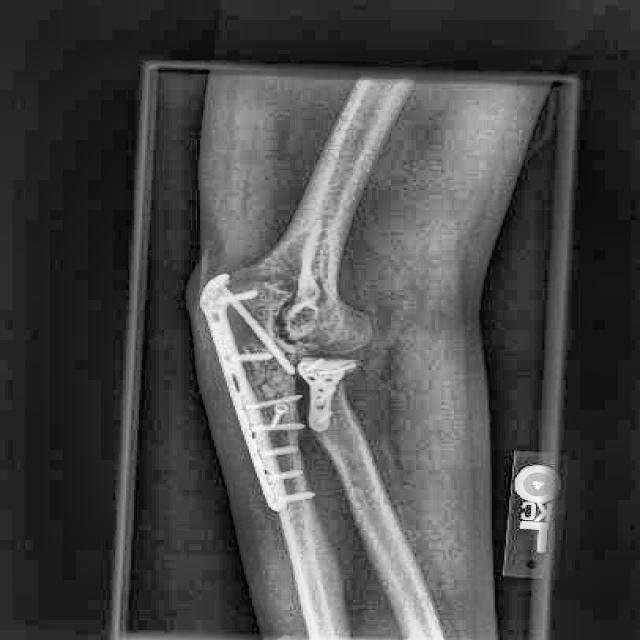elbow positive: (270, 275, 386, 346)
